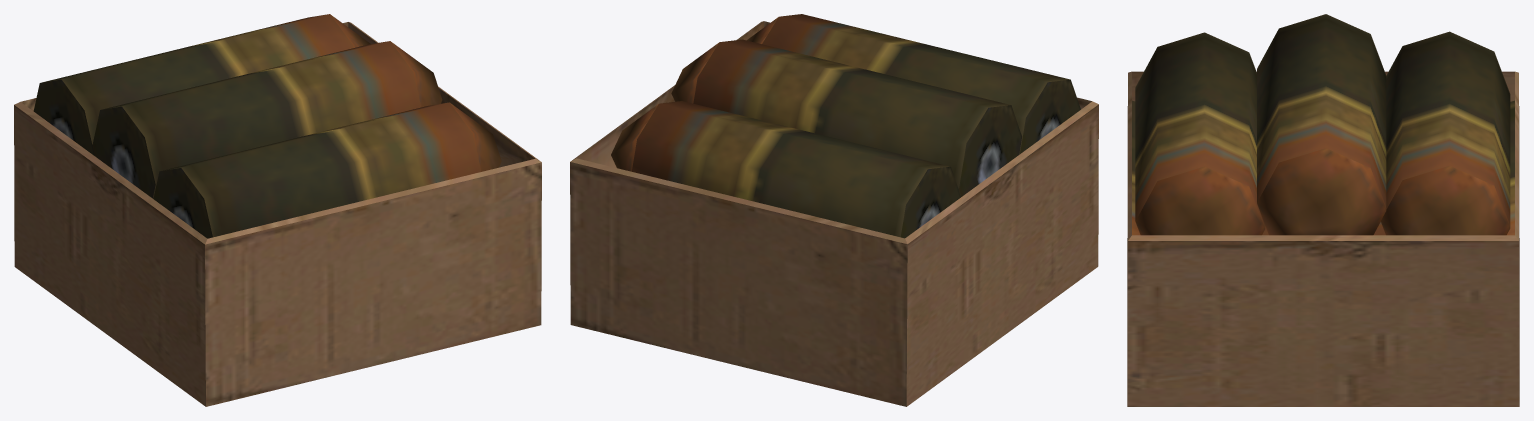
The model's file is Pickup_M1201Dj.glb.
The picture shows the model from 3 angles, left to right: view 1: azimuth 30°, elevation 25°; view 2: azimuth 150°, elevation 25°; view 3: azimuth 270°, elevation 25°; orthographic projection. The views are drawn at different scales.
Parts seen in each view (by area): view 1: pk_m12_01_dj; view 2: pk_m12_01_dj; view 3: pk_m12_01_dj.
Part boxes in pixels (bbox=[...]): pk_m12_01_dj: bbox=[14, 14, 541, 406]; pk_m12_01_dj: bbox=[570, 14, 1098, 406]; pk_m12_01_dj: bbox=[1127, 14, 1519, 406].
Size of the model in its own units: 0.2853 by 0.1832 by 0.2807.
Materials: 1 (1 with a texture image).
